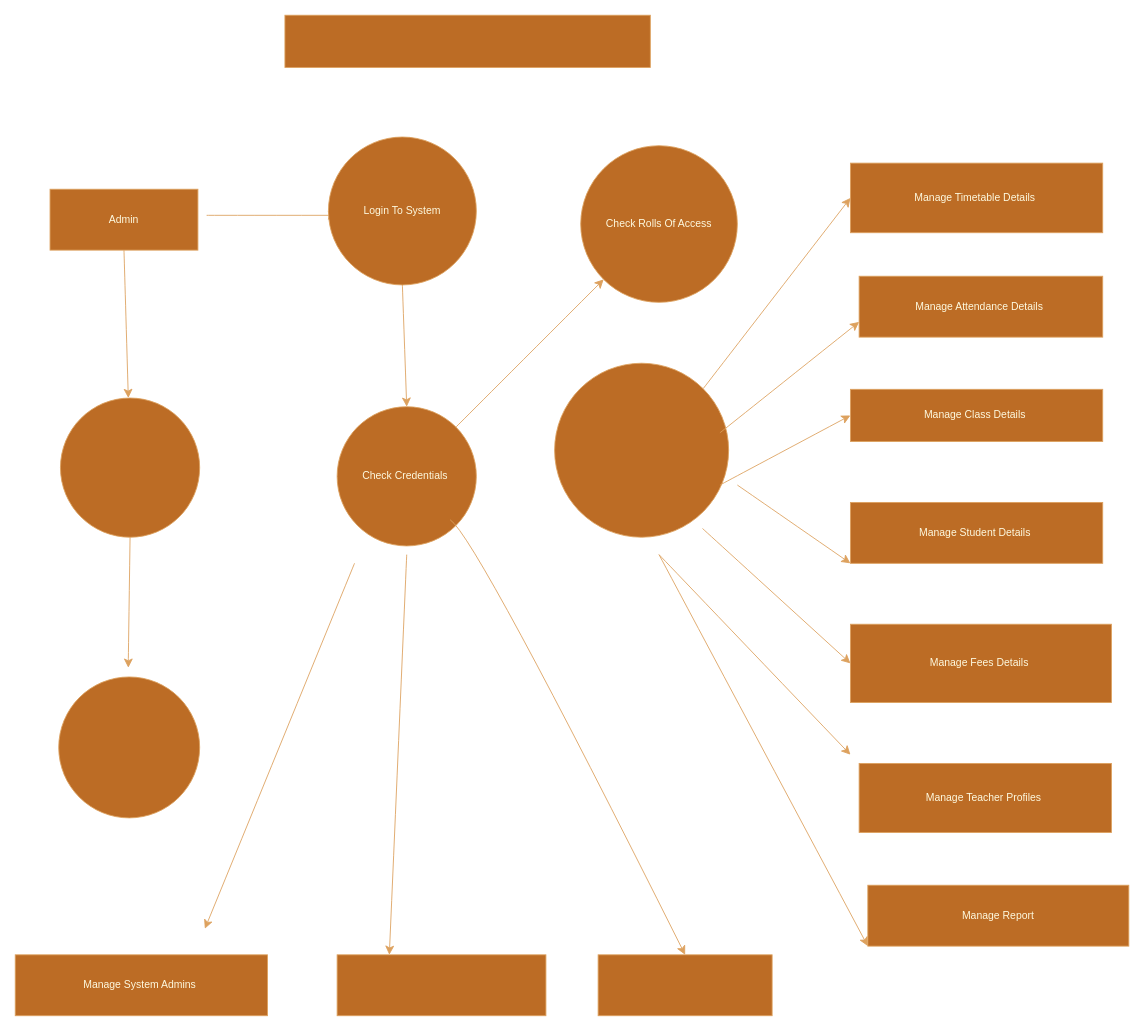
Image size: 1144x1031. Some labels were removed from this diagram. The centre of each missing label's shape, as x and y in pixels:
Forgot Password: the point at 130,467
Manage Modules: the point at 641,449
Manage User Permission: the point at 684,985
Mange Rolls of user: the point at 441,985
Send Email To User: the point at 129,747
Student Information System: the point at 467,40
